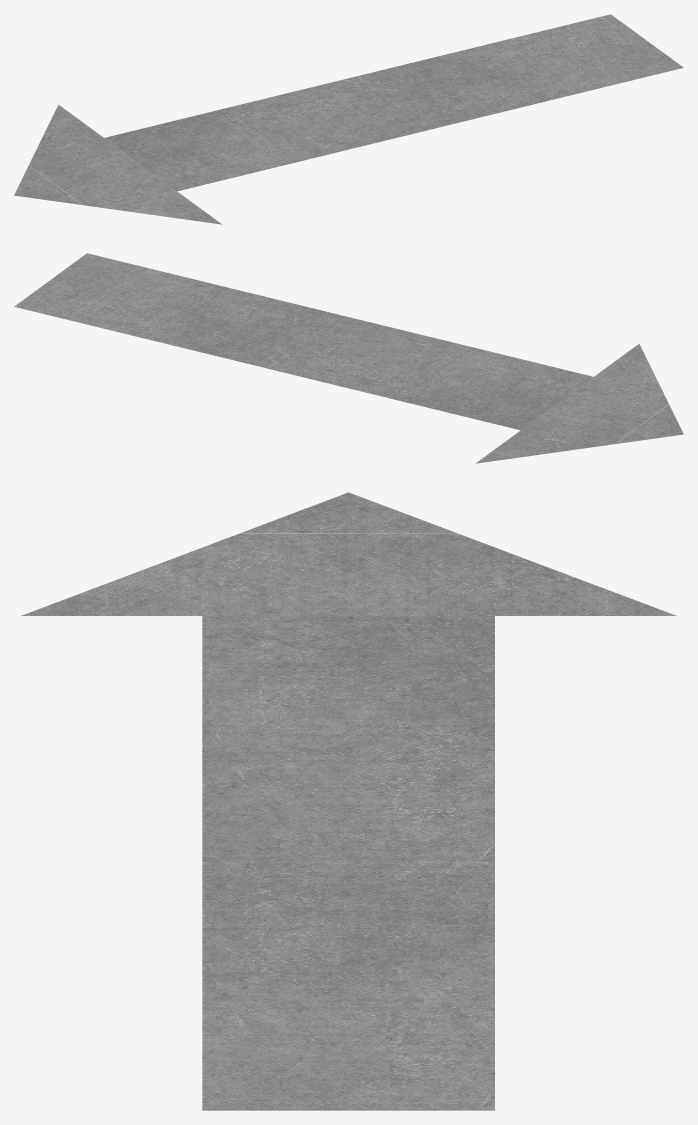
File: WhiteArrow.fbx
3 renders of one model, top to bottom at view 1: azimuth 30°, elevation 25°; view 2: azimuth 150°, elevation 25°; view 3: azimuth 270°, elevation 25°, orthographic. The views are drawn at different scales.
Parts seen in each view (by area): view 1: Arrow; view 2: Arrow; view 3: Arrow.
Boxes of the visible parts, x1,y1,x2,y2 form: Arrow: [14, 14, 683, 224]; Arrow: [14, 253, 683, 463]; Arrow: [21, 492, 676, 1110].
Size of the model in its own units: 250 by 1.83e-05 by 112.
Materials: 1 (1 with a texture image).
